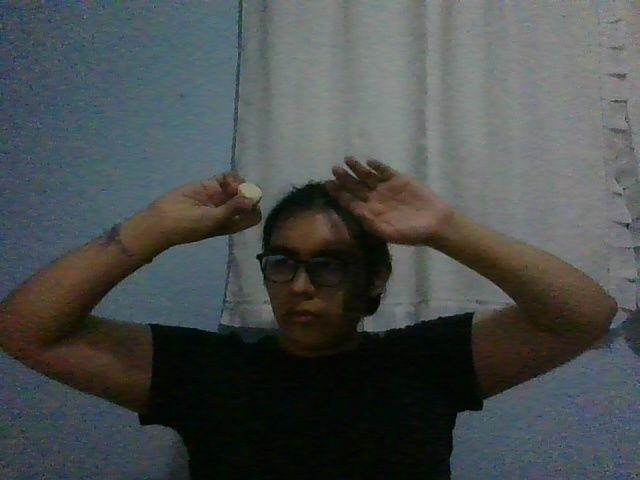goma: (237, 182, 262, 204)
